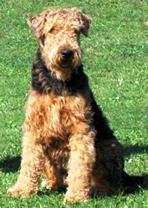wire-haired_fox_terrier: (6, 5, 124, 204)
